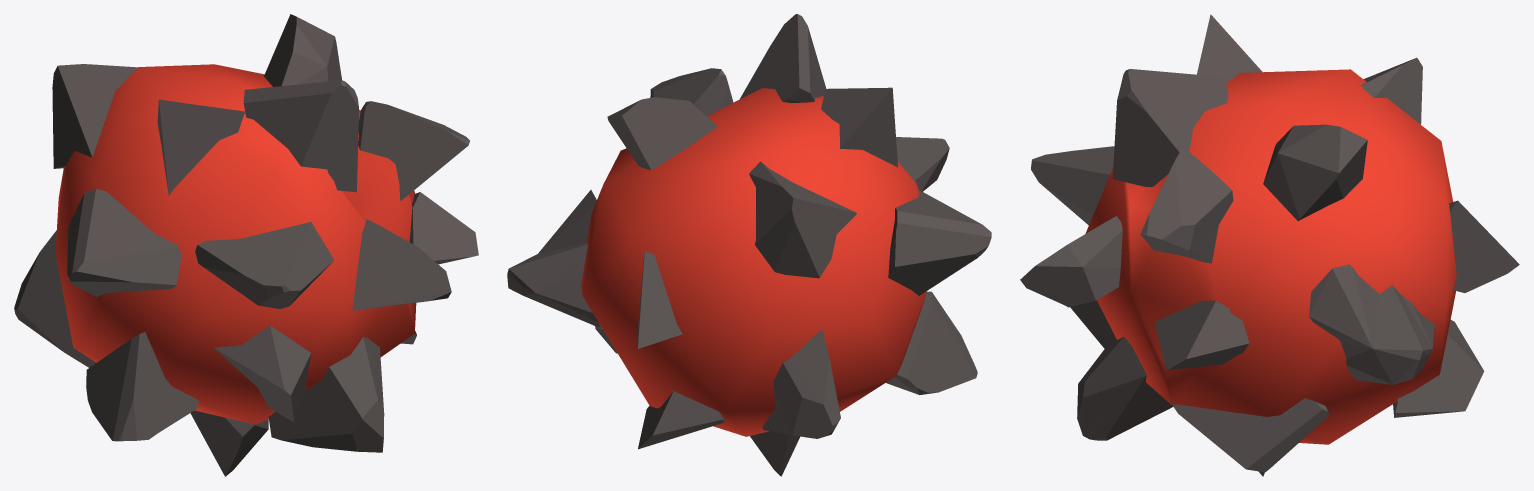
The model's file is FireHazardSpike 1.dae.
3 views of the same model, side by side, from view 1: azimuth 30°, elevation 25°; view 2: azimuth 150°, elevation 25°; view 3: azimuth 270°, elevation 25° (orthographic). The views are drawn at different scales.
Parts seen in each view (by area): view 1: FireHazardCenter, FireHazardSpike12, FireHazardSpike11, FireHazardSpike, FireHazardSpike14, FireHazardSpike3, FireHazardSpike10, FireHazardSpike5, FireHazardSpike4, FireHazardSpike7, FireHazardSpike9, FireHazardSpike2 (+3 smaller); view 2: FireHazardCenter, FireHazardSpike4, FireHazardSpike12, FireHazardSpike6, FireHazardSpike2, FireHazardSpike3, FireHazardSpike16, FireHazardSpike9, FireHazardSpike11, FireHazardSpike17, FireHazardSpike8, FireHazardSpike5 (+2 smaller); view 3: FireHazardCenter, FireHazardSpike6, FireHazardSpike11, FireHazardSpike16, FireHazardSpike5, FireHazardSpike, FireHazardSpike13, FireHazardSpike10, FireHazardSpike15, FireHazardSpike14, FireHazardSpike17, FireHazardSpike8 (+3 smaller).
Boxes of the visible parts, x1=… form: FireHazardCenter: x1=55, y1=64, x2=416, y2=424; FireHazardSpike12: x1=67, y1=189, x2=181, y2=296; FireHazardSpike11: x1=243, y1=80, x2=358, y2=192; FireHazardSpike: x1=268, y1=337, x2=384, y2=452; FireHazardSpike14: x1=195, y1=222, x2=334, y2=308; FireHazardSpike3: x1=86, y1=332, x2=198, y2=441; FireHazardSpike10: x1=352, y1=219, x2=451, y2=310; FireHazardSpike5: x1=358, y1=101, x2=469, y2=201; FireHazardSpike4: x1=52, y1=64, x2=137, y2=168; FireHazardSpike7: x1=214, y1=325, x2=311, y2=422; FireHazardSpike9: x1=157, y1=99, x2=244, y2=195; FireHazardSpike2: x1=14, y1=230, x2=95, y2=367; FireHazardCenter: x1=581, y1=88, x2=926, y2=436; FireHazardSpike4: x1=749, y1=161, x2=856, y2=278; FireHazardSpike12: x1=888, y1=191, x2=991, y2=295; FireHazardSpike6: x1=507, y1=190, x2=600, y2=327; FireHazardSpike2: x1=763, y1=329, x2=840, y2=438; FireHazardSpike3: x1=886, y1=291, x2=977, y2=394; FireHazardSpike16: x1=607, y1=97, x2=717, y2=170; FireHazardSpike9: x1=821, y1=87, x2=897, y2=167; FireHazardSpike11: x1=740, y1=14, x2=826, y2=102; FireHazardSpike17: x1=638, y1=391, x2=724, y2=449; FireHazardSpike8: x1=637, y1=251, x2=682, y2=348; FireHazardSpike5: x1=650, y1=68, x2=733, y2=116; FireHazardCenter: x1=1085, y1=69, x2=1456, y2=444; FireHazardSpike6: x1=1309, y1=264, x2=1434, y2=384; FireHazardSpike11: x1=1112, y1=69, x2=1228, y2=187; FireHazardSpike16: x1=1263, y1=124, x2=1367, y2=220; FireHazardSpike5: x1=1140, y1=149, x2=1233, y2=263; FireHazardSpike: x1=1077, y1=336, x2=1172, y2=440; FireHazardSpike13: x1=1173, y1=398, x2=1329, y2=472; FireHazardSpike10: x1=1020, y1=216, x2=1122, y2=307; FireHazardSpike15: x1=1155, y1=300, x2=1249, y2=370; FireHazardSpike14: x1=1031, y1=146, x2=1114, y2=225; FireHazardSpike17: x1=1393, y1=320, x2=1484, y2=417; FireHazardSpike8: x1=1449, y1=200, x2=1519, y2=292.
Bounding box in the file's own units: 2.59 × 2.78 × 2.65.
